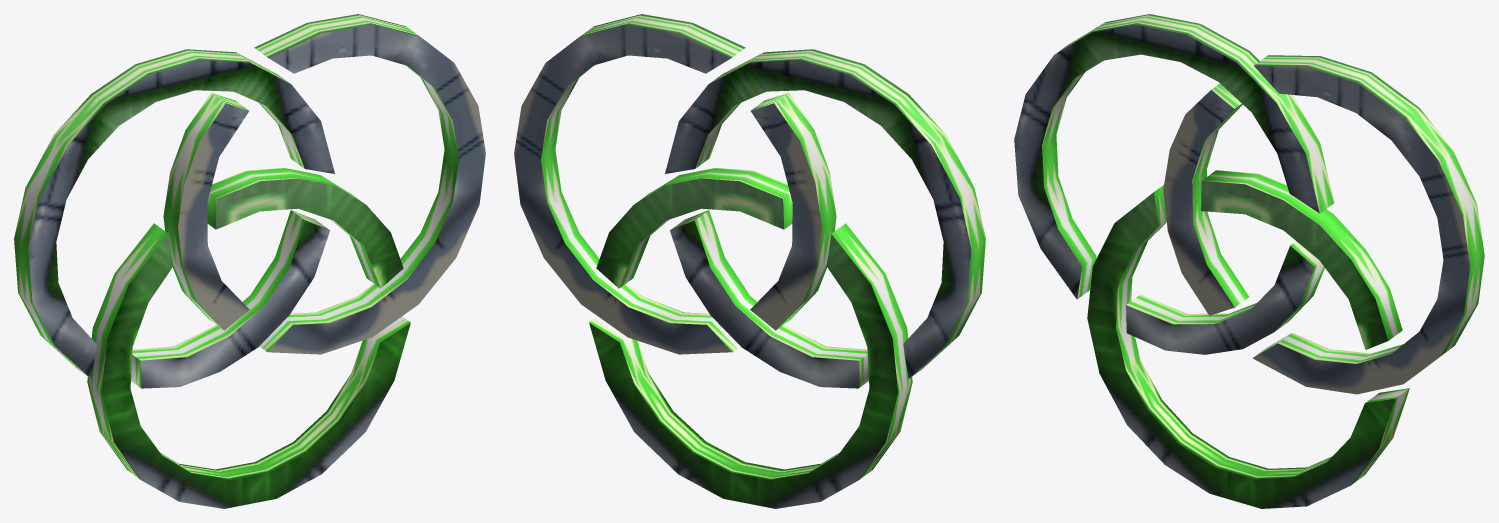
The model's file is icon.ico.obj.
3 renders of one model, left to right at view 1: azimuth 30°, elevation 25°; view 2: azimuth 150°, elevation 25°; view 3: azimuth 330°, elevation 25°, orthographic.
Bounding box in the file's own units: 4.59 × 4.38 × 0.2517.
